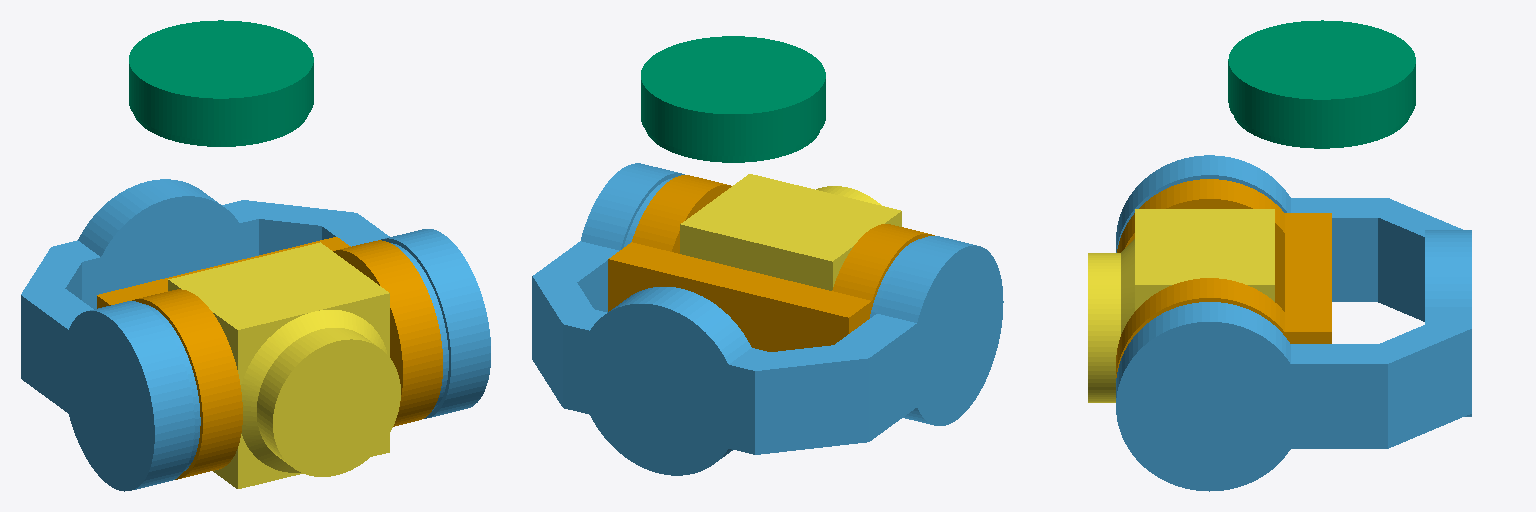
The robot description file, URDF, robot "GIMBAL_RAPIDO":
<?xml version='1.0' encoding='utf-8'?>
<robot name="GIMBAL_RAPIDO">
    <link name="CAMERA_ASSEMBLY">
        <inertial>
            <origin xyz="1.8077930263871166e-11 0.0032756026727633735 0.015000000000000006" rpy="0.0 -0.0 0.0" />
            <mass value="0.004718154701058241" />
            <inertia ixx="8.378558376386652e-07" iyy="7.336772213625239e-07" izz="3.087951517082629e-07" ixy="-6.161993167103216e-16" iyz="-1.0331425577052675e-21" ixz="1.6146105361808051e-22" />
        </inertial>
        <visual name="CAMERA_ASSEMBLY_visual">
            <origin xyz="4.4408920985006264e-17 1.7763568394002505e-17 0.005000000000000019" rpy="-2.9266271407770027e-31 1.5707963267948966 0" />
            <geometry>
                <mesh filename="meshes/CAMERA_ASSEMBLY.stl" scale="0.001 0.001 0.001" />
            </geometry>
        </visual>
        <collision name="CAMERA_ASSEMBLY_collision">
            <origin xyz="4.4408920985006264e-17 1.7763568394002505e-17 0.005000000000000019" rpy="-2.9266271407770027e-31 1.5707963267948966 0" />
            <geometry>
                <mesh filename="meshes/CAMERA_ASSEMBLY.stl" scale="0.001 0.001 0.001" />
            </geometry>
        </collision>
    </link>
    <link name="PITCH_MOTOR">
        <inertial>
            <origin xyz="9.174692117142058e-12 1.6857821805160712e-11 0.01743111969768133" rpy="0.0 -5.050697655593556e-112 0.0" />
            <mass value="0.007638596904392609" />
            <inertia ixx="1.255740999748816e-06" iyy="2.991625924408175e-06" izz="2.048053521892662e-06" ixy="5.026169695186024e-17" iyz="1.5486004266140874e-15" ixz="1.8765296011948964e-16" />
        </inertial>
        <visual name="PITCH_MOTOR_visual">
            <origin xyz="0.009999999999999981 4.4408920985006264e-17 0.02799999999999998" rpy="-1.5707963267948966 -4.930380657631328e-32 -1.0419182877585705e-16" />
            <geometry>
                <mesh filename="meshes/PITCH_MOTOR.stl" scale="0.001 0.001 0.001" />
            </geometry>
        </visual>
        <collision name="PITCH_MOTOR_collision">
            <origin xyz="0.009999999999999981 4.4408920985006264e-17 0.02799999999999998" rpy="-1.5707963267948966 -4.930380657631328e-32 -1.0419182877585705e-16" />
            <geometry>
                <mesh filename="meshes/PITCH_MOTOR.stl" scale="0.001 0.001 0.001" />
            </geometry>
        </collision>
    </link>
    <link name="YAW_MOTOR">
        <inertial>
            <origin xyz="-0.009999999999999976 0.011999999999999948 0.02804129606099103" rpy="0.0 0.0 0.0" />
            <mass value="0.001965584567608258" />
            <inertia ixx="5.4192220613480285e-08" iyy="5.419222061347949e-08" izz="9.681409363203337e-08" ixy="1.5577191506913052e-21" iyz="2.863043810718458e-22" ixz="-1.698777639663601e-22" />
        </inertial>
        <visual name="YAW_MOTOR_visual">
            <origin xyz="0.0 0.0 0.0" rpy="0.0 0.0 0.0" />
            <geometry>
                <mesh filename="meshes/YAW_MOTOR.stl" scale="0.001 0.001 0.001" />
            </geometry>
        </visual>
        <collision name="YAW_MOTOR_collision">
            <origin xyz="0.0 0.0 0.0" rpy="0.0 0.0 0.0" />
            <geometry>
                <mesh filename="meshes/YAW_MOTOR.stl" scale="0.001 0.001 0.001" />
            </geometry>
        </collision>
    </link>
    <link name="CAMERA">
        <inertial>
            <origin xyz="1.1320944182102723e-13 0.010125413605788726 -0.005500000000000039" rpy="0.0 -0.0 5.050697655593556e-112" />
            <mass value="0.006869216157004747" />
            <inertia ixx="3.9437228490211786e-07" iyy="3.840762745352041e-07" izz="3.943722887962718e-07" ixy="-6.768107223636498e-18" iyz="2.085584074652712e-50" ixz="3.961681588021628e-24" />
        </inertial>
        <visual name="CAMERA_visual">
            <origin xyz="0.009999999999999981 0.008999999999999985 -0.005500000000000039" rpy="-3.141592653589793 -1.0419182877585703e-16 -1.2246467991473517e-16" />
            <geometry>
                <mesh filename="meshes/CAMERA.stl" scale="0.001 0.001 0.001" />
            </geometry>
        </visual>
        <collision name="CAMERA_collision">
            <origin xyz="0.009999999999999981 0.008999999999999985 -0.005500000000000039" rpy="-3.141592653589793 -1.0419182877585703e-16 -1.2246467991473517e-16" />
            <geometry>
                <mesh filename="meshes/CAMERA.stl" scale="0.001 0.001 0.001" />
            </geometry>
        </collision>
    </link>
    <link name="ROLL_MOTOR">
        <inertial>
            <origin xyz="-7.133516000124018e-14 -0.011096726580276155 0.01370636108928117" rpy="0.0 -0.0 4.539048581190739e-112" />
            <mass value="0.004184733711997446" />
            <inertia ixx="9.423565304118199e-07" iyy="6.37621426466801e-07" izz="4.894283102382256e-07" ixy="-1.6159430415530485e-18" iyz="3.718491120900174e-07" ixz="3.371859984724817e-18" />
        </inertial>
        <visual name="ROLL_MOTOR_visual">
            <origin xyz="0.009999999999999981 0.011999999999999983 0.024999999999999956" rpy="-3.141592653589793 -1.0419182877585705e-16 4.930380657631328e-32" />
            <geometry>
                <mesh filename="meshes/ROLL_MOTOR.stl" scale="0.001 0.001 0.001" />
            </geometry>
        </visual>
        <collision name="ROLL_MOTOR_collision">
            <origin xyz="0.009999999999999981 0.011999999999999983 0.024999999999999956" rpy="-3.141592653589793 -1.0419182877585705e-16 4.930380657631328e-32" />
            <geometry>
                <mesh filename="meshes/ROLL_MOTOR.stl" scale="0.001 0.001 0.001" />
            </geometry>
        </collision>
    </link>
    <joint name="YAW_MOTOR_Revolución-1" type="revolute">
        <origin xyz="-0.01 0.012000000000000007 0.024999999999999994" rpy="3.141592653589793 -1.0419182877585728e-16 4.93038065763133e-32" />
        <parent link="YAW_MOTOR" />
        <child link="ROLL_MOTOR" />
        <axis xyz="-1.232595164407831e-32 0.0 1.0" />
        <limit lower="-1.570796" upper="1.570796" effort="1000000" velocity="1000000" />
    </joint>
    <joint name="ROLL_MOTOR_Revolución-2" type="revolute">
        <origin xyz="7.766887691061141e-35 -0.016 0.025" rpy="-1.5707963267948966 -0.0 1.347073413886418e-48" />
        <parent link="ROLL_MOTOR" />
        <child link="PITCH_MOTOR" />
        <axis xyz="1.3297513615889164e-47 -0.0 1.0" />
        <limit lower="-0.785398" upper="0.785398" effort="1000000" velocity="1000000" />
    </joint>
    <joint name="PITCH_MOTOR_Revolución-3" type="revolute">
        <origin xyz="0.015 0.0 0.027999999999999997" rpy="-1.5707963267948966 -0.0 1.5707963267948966" />
        <parent link="PITCH_MOTOR" />
        <child link="CAMERA_ASSEMBLY" />
        <axis xyz="-3.0814879110195774e-33 3.947994594512044e-35 1.0" />
        <limit lower="-1.570796" upper="1.570796" effort="1000000" velocity="1000000" />
    </joint>
    <joint name="CAMERA_ASSEMBLY_Rígida-4" type="fixed">
        <origin xyz="-0.006000000000000001 0.008 0.015" rpy="-3.141592653589793 1.5707963267948966 0" />
        <parent link="CAMERA_ASSEMBLY" />
        <child link="CAMERA" />
    </joint>
</robot>

--- Render facts (derived) ---
Views: 3 orthographic renders of the robot side by side, from view 1: azimuth 30°, elevation 25°; view 2: azimuth 150°, elevation 25°; view 3: azimuth 270°, elevation 25°.
Robot: GIMBAL_RAPIDO — 5 links, 4 joints (3 revolute, 1 fixed); root link YAW_MOTOR; default pose: every joint at zero.
Visible links, largest first — view 1: PITCH_MOTOR, CAMERA, YAW_MOTOR, CAMERA_ASSEMBLY; view 2: PITCH_MOTOR, CAMERA_ASSEMBLY, YAW_MOTOR, CAMERA; view 3: PITCH_MOTOR, YAW_MOTOR, CAMERA, CAMERA_ASSEMBLY.
Link boxes in pixels (x1,y1,x2,y2): PITCH_MOTOR: (21,179,490,491); CAMERA: (168,242,400,488); YAW_MOTOR: (129,20,313,146); CAMERA_ASSEMBLY: (97,237,442,479); PITCH_MOTOR: (532,163,1003,475); CAMERA_ASSEMBLY: (608,175,934,351); YAW_MOTOR: (641,36,825,162); CAMERA: (680,174,901,290); PITCH_MOTOR: (1116,155,1471,491); YAW_MOTOR: (1228,20,1415,148); CAMERA: (1088,209,1274,402); CAMERA_ASSEMBLY: (1116,179,1331,377).
Size in the robot's own frame: 0.042 by 0.041 by 0.041 metres.
Meshes: 5 distinct files referenced, 4 mesh visuals loaded (4 binary STL); not drawn: 1 (reference not matched to a file when rendering).